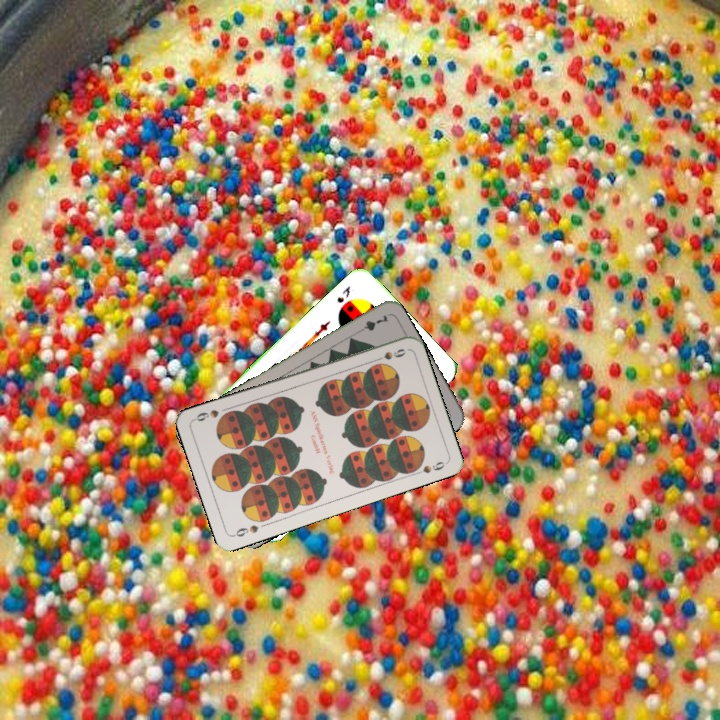G7: (352, 310, 391, 337)
S9: (369, 344, 408, 365), (229, 521, 261, 539)
SK: (333, 282, 353, 306)
